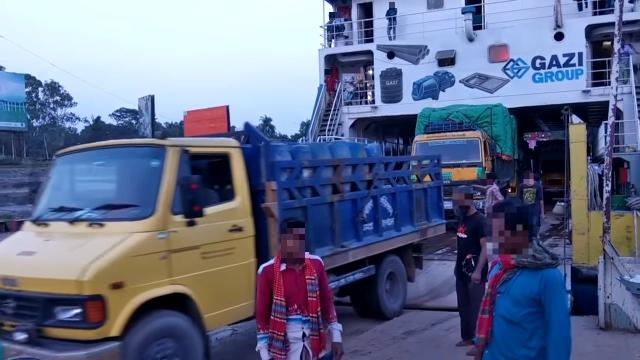truck: (0, 97, 438, 360), (405, 99, 537, 224)
